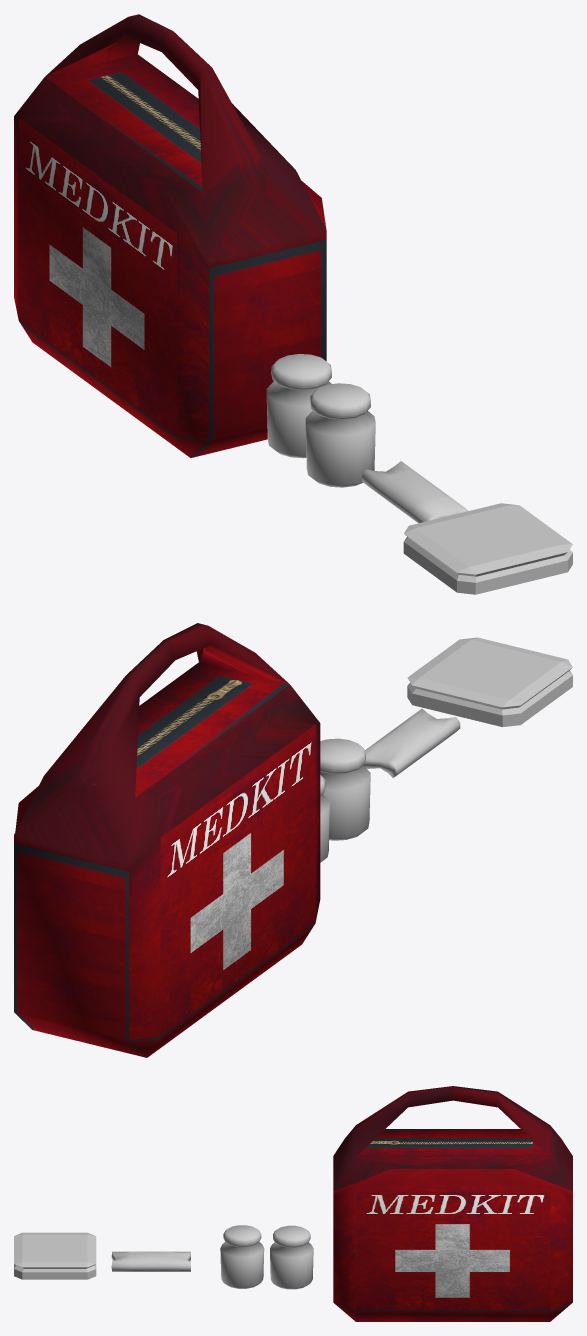
The picture shows the model from 3 angles, top to bottom: view 1: azimuth 30°, elevation 25°; view 2: azimuth 150°, elevation 25°; view 3: azimuth 270°, elevation 25°; orthographic projection. The views are drawn at different scales.
Visible parts, largest first — view 1: Medkit, Painkiller, Adrenaline.001, Adrenaline, Bandage; view 2: Medkit, Painkiller, Adrenaline.001, Bandage, Adrenaline; view 3: Medkit, Painkiller, Adrenaline, Adrenaline.001, Bandage.
Boxes of the visible parts, bbox=[...] form: Medkit: bbox=[14, 14, 326, 457]; Painkiller: bbox=[403, 503, 572, 594]; Adrenaline.001: bbox=[305, 383, 375, 487]; Adrenaline: bbox=[266, 354, 331, 458]; Bandage: bbox=[362, 461, 467, 523]; Medkit: bbox=[14, 623, 320, 1057]; Painkiller: bbox=[407, 637, 572, 727]; Adrenaline.001: bbox=[320, 738, 370, 840]; Bandage: bbox=[363, 708, 460, 777]; Adrenaline: bbox=[320, 775, 329, 862]; Medkit: bbox=[333, 1086, 572, 1321]; Painkiller: bbox=[14, 1232, 96, 1279]; Adrenaline: bbox=[270, 1225, 313, 1289]; Adrenaline.001: bbox=[220, 1225, 264, 1288]; Bandage: bbox=[111, 1251, 190, 1271].
Size of the model in its own units: 15 by 35 by 81.59.
